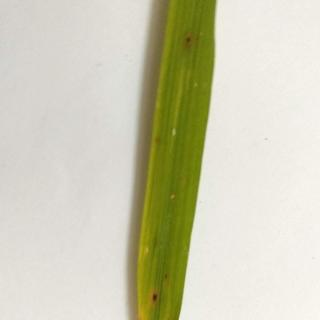bercak-Cokelat: (150, 286, 164, 314), (179, 31, 197, 50)
